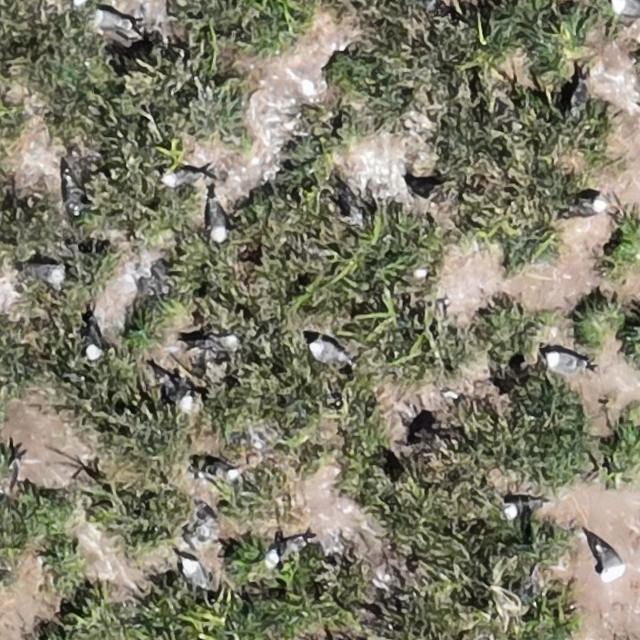umineko: (155, 364, 196, 414), (262, 536, 312, 570), (192, 326, 244, 354), (20, 260, 68, 288), (499, 494, 547, 522), (78, 312, 106, 359), (61, 170, 87, 218), (412, 231, 437, 279), (598, 544, 624, 576), (210, 204, 229, 242), (308, 340, 340, 362), (544, 354, 579, 374), (204, 463, 242, 481), (94, 11, 126, 31), (161, 168, 196, 186), (183, 560, 205, 588), (612, 0, 639, 16), (585, 196, 609, 214)
